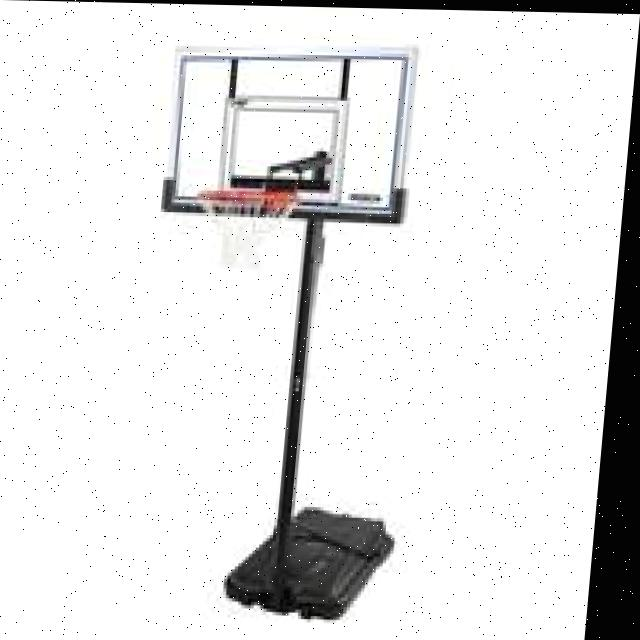hoop: (191, 187, 296, 272)
